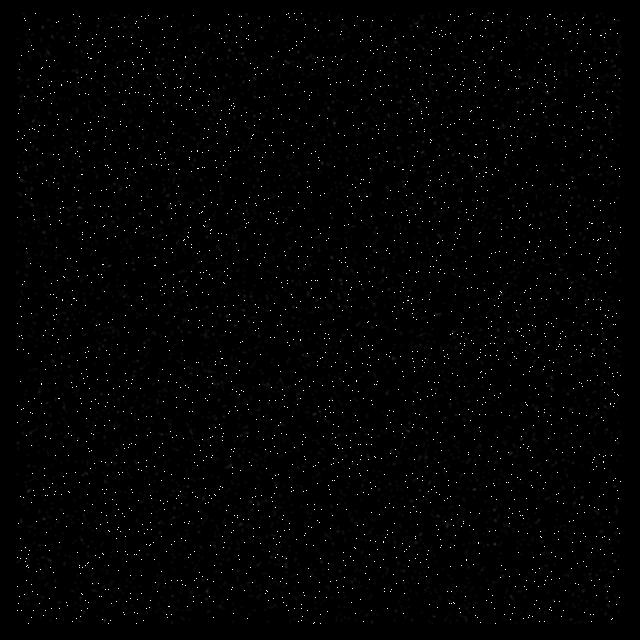drone: (18, 14, 622, 625)
